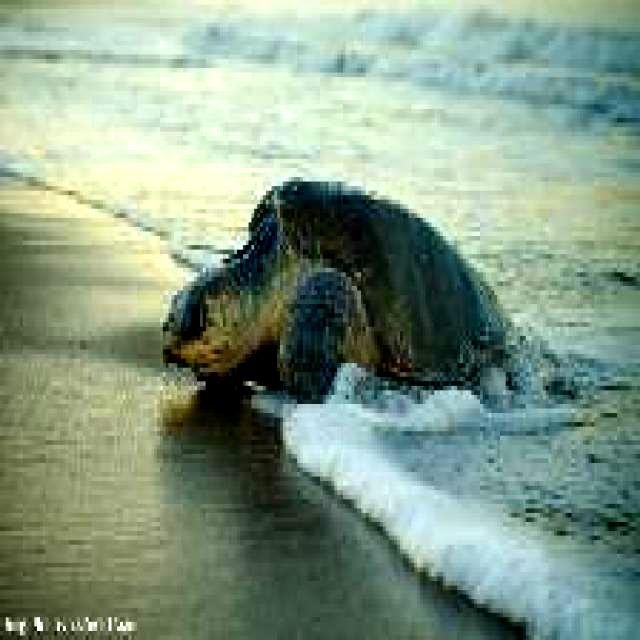Sea turtle: (153, 164, 586, 446)
